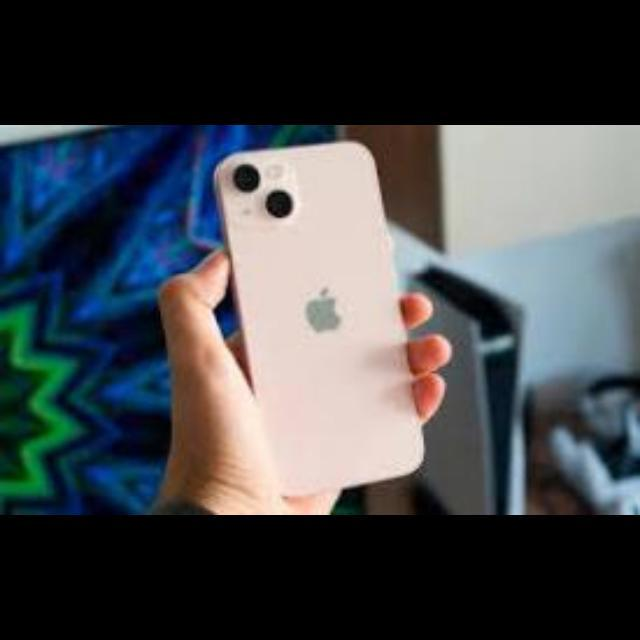Phone: (213, 141, 424, 499)
